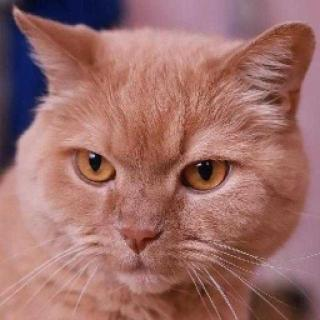cat: (12, 8, 318, 306)
nose: (116, 212, 165, 254)
